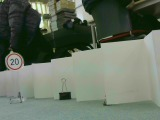speed_20: (4, 51, 25, 72)
